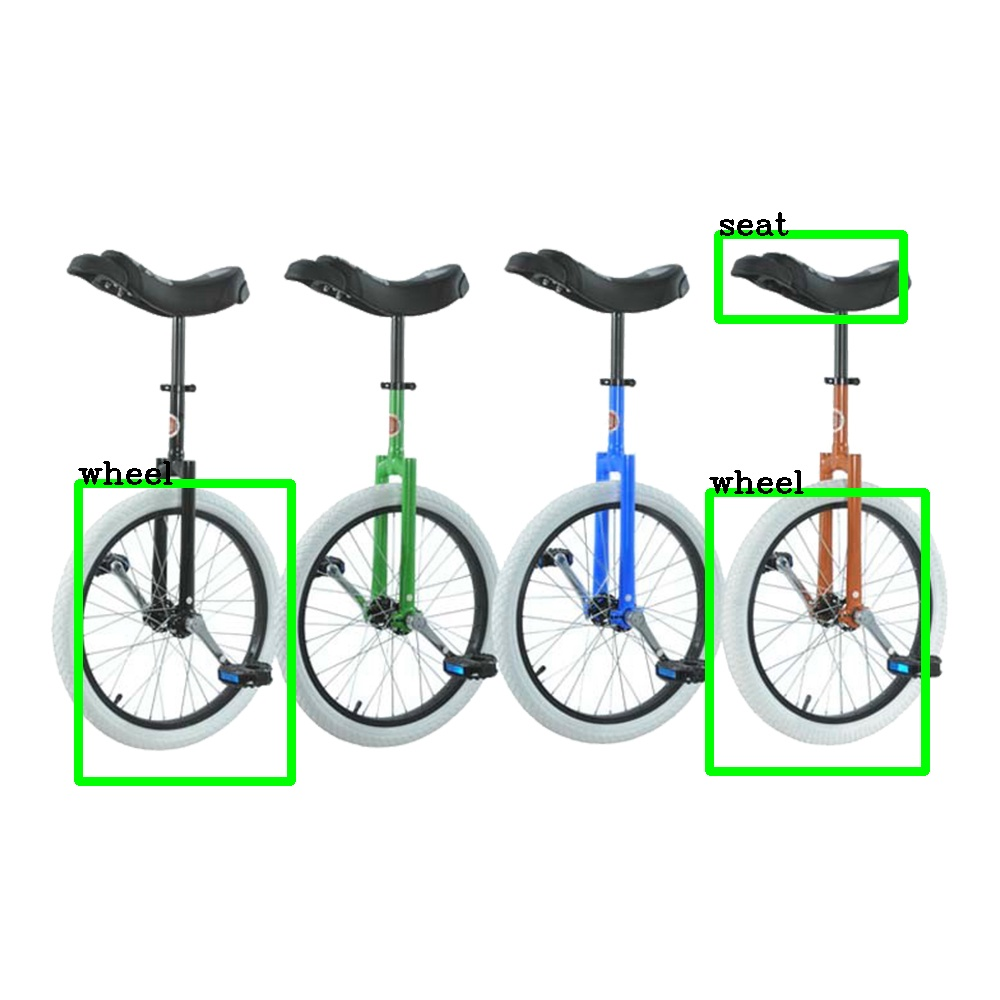seat: (718, 234, 903, 319)
wheel: (78, 483, 291, 781), (709, 492, 925, 771)
